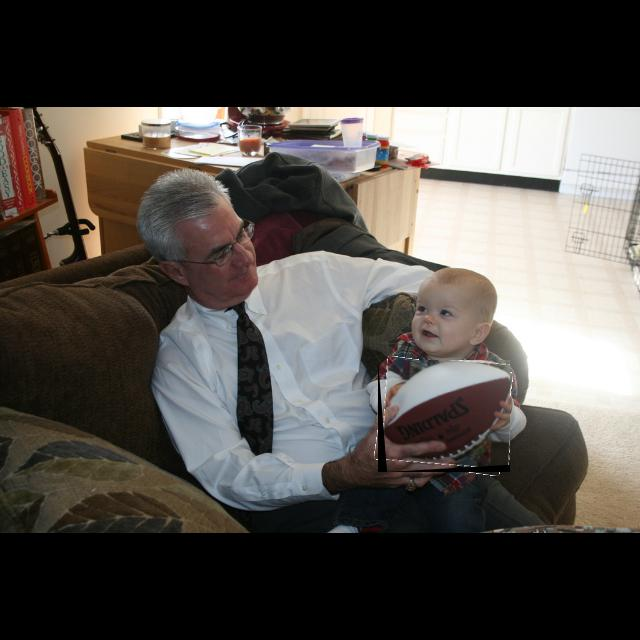Football: (378, 360, 510, 472)
